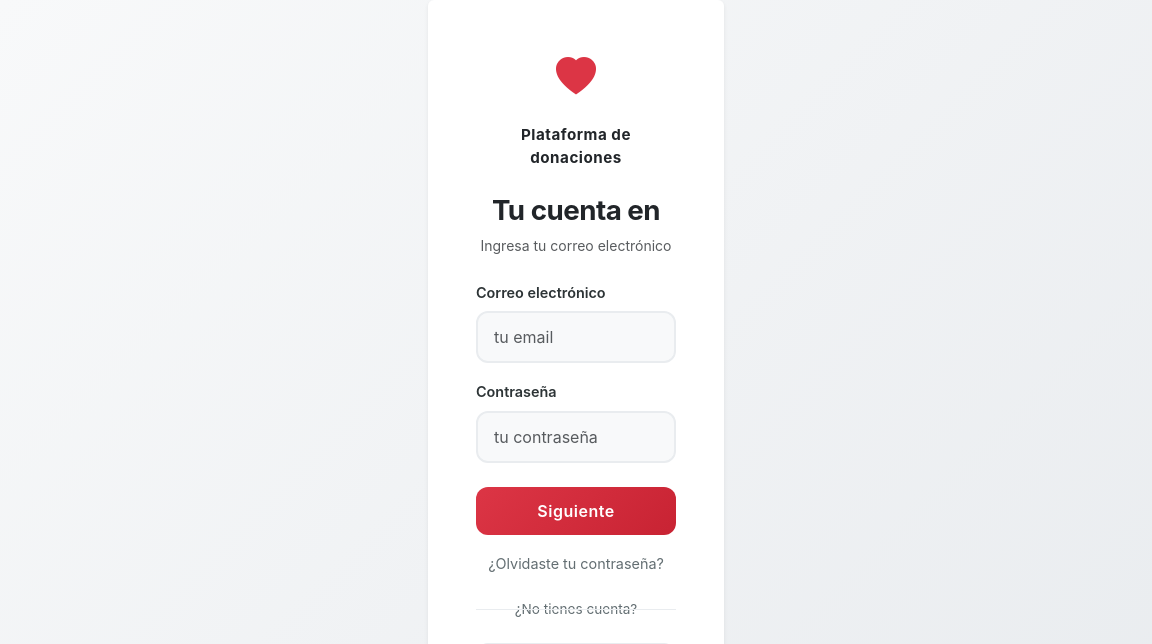
LoginPage › shows validation error for short password
The width and height of the screenshot is (1152, 644).
Type "123" into the password field labelled "Contraseña".
click(576, 437); type("123")  # box [476,411,676,463]
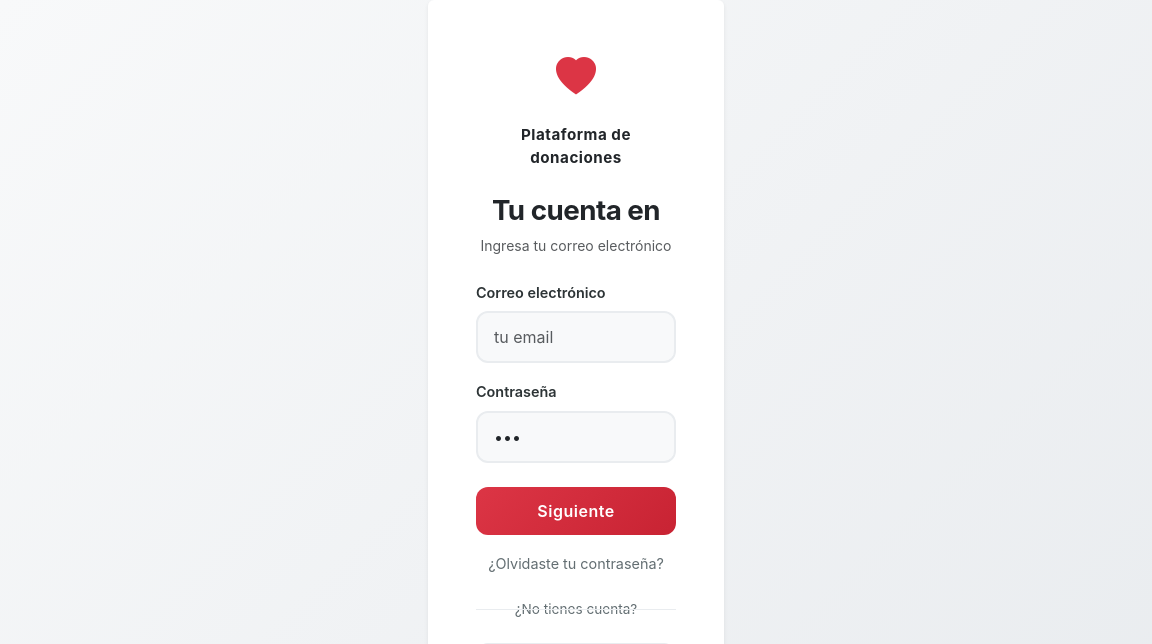
Leave the password field labelled "Contraseña", box [476,411,676,463]
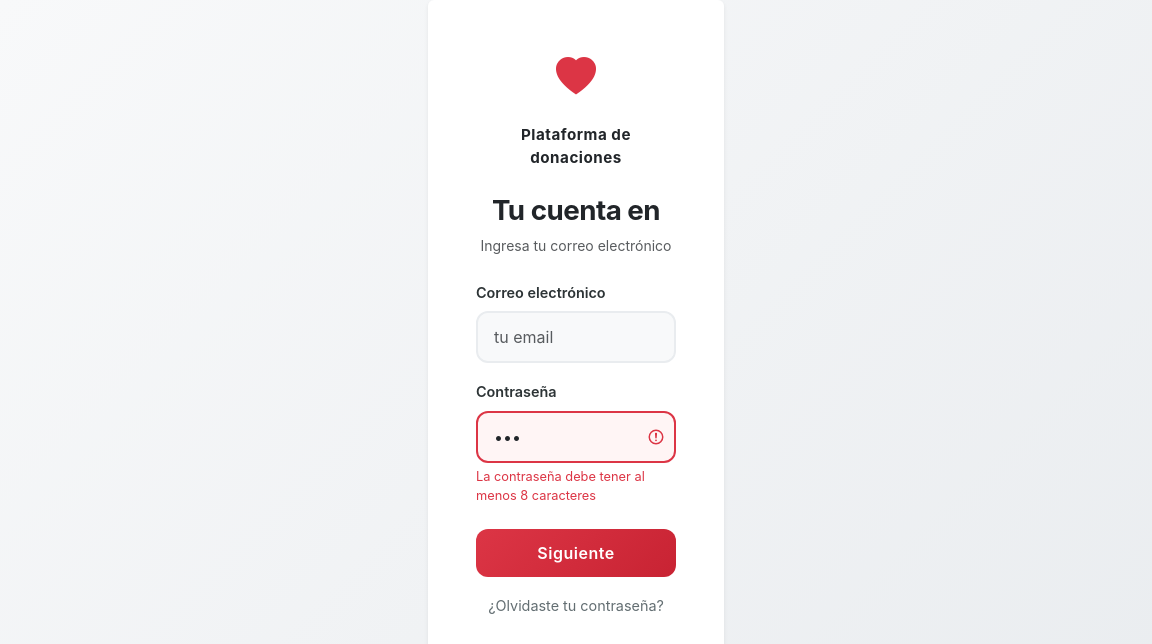
Expected: the text "La contraseña debe tener al menos 8 caracteres" is shown, [476,469,645,503]
